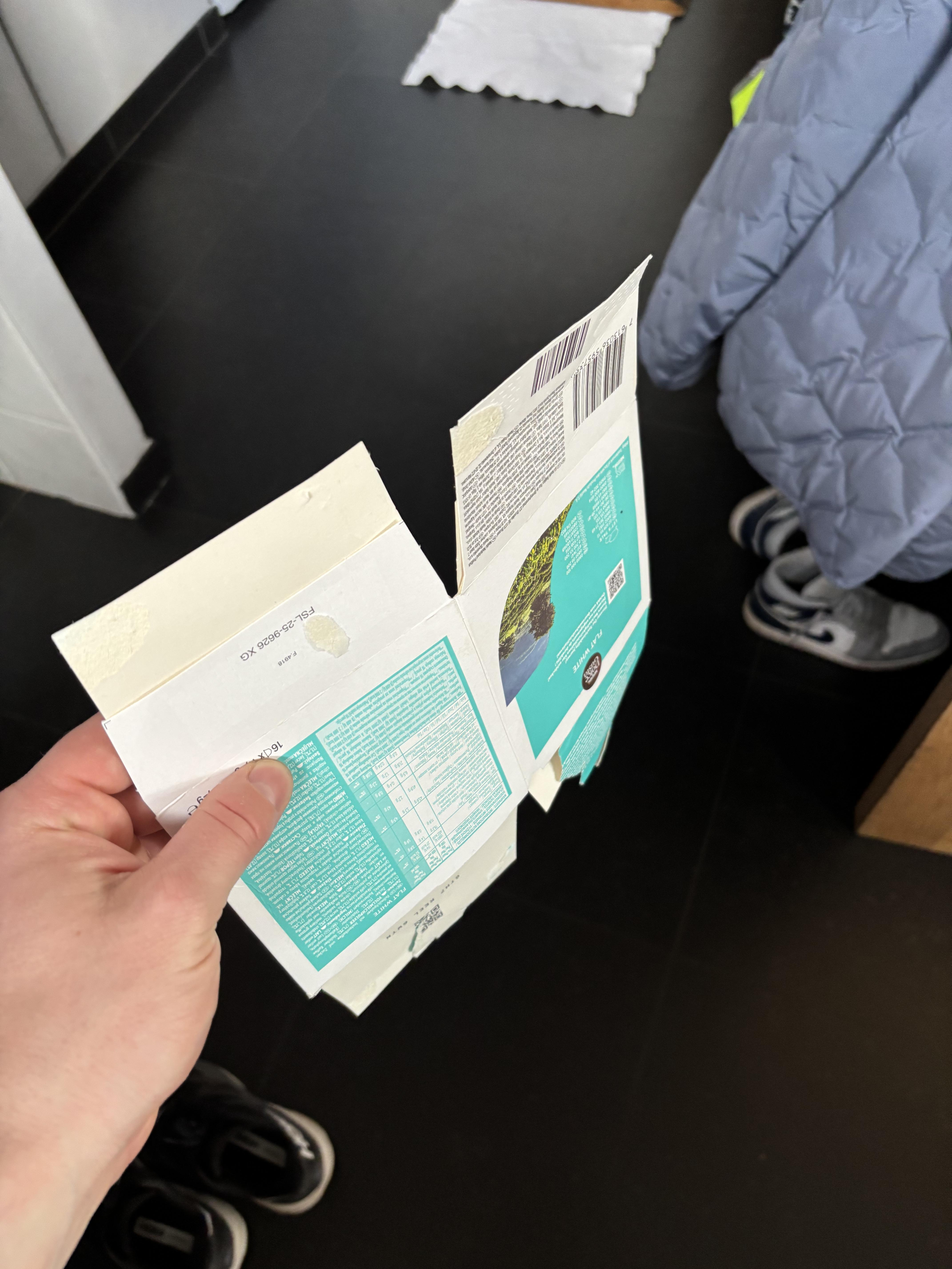Cardboard: (42, 247, 660, 1017)
